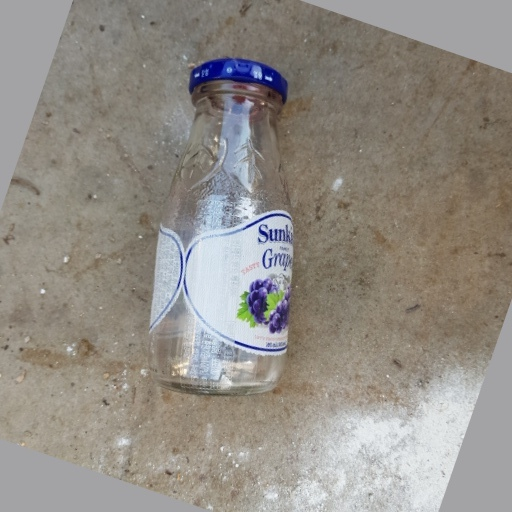Glass_4: (142, 53, 303, 399)
